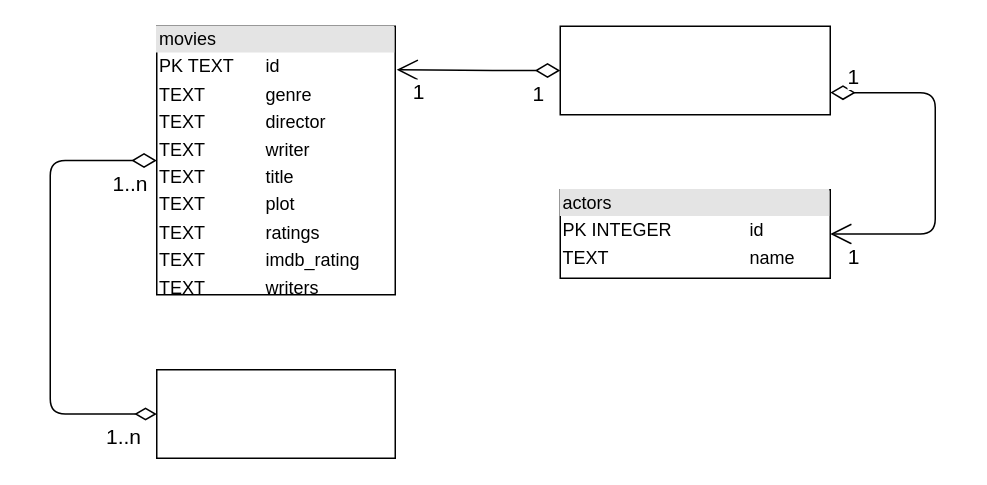
Some shapes in this 987 by 485 pixel diagram are drawn without their labels. The shapes that lost their labels are listed below. From the top down, each one's centre as x and y in pixels, then its label:
the point at 694,70: movie_actors TEXT movie_id TEXT actor_id
the point at 275,413: writers PK TEXT id TEXT name
